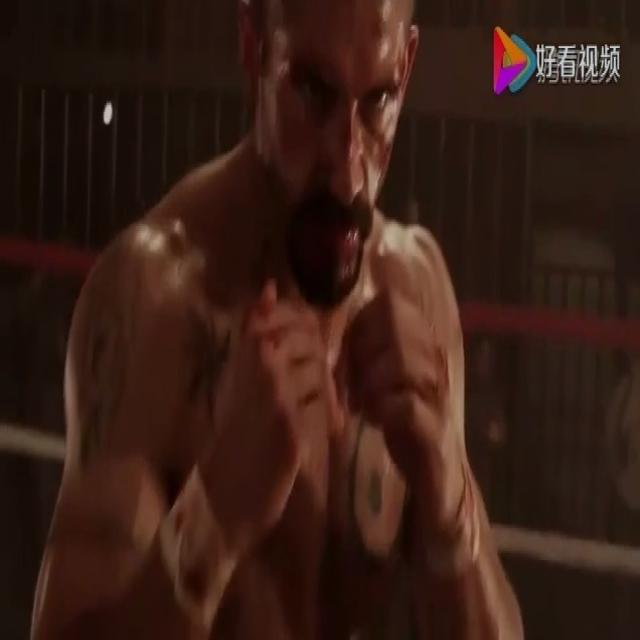fight: (3, 0, 573, 638)
